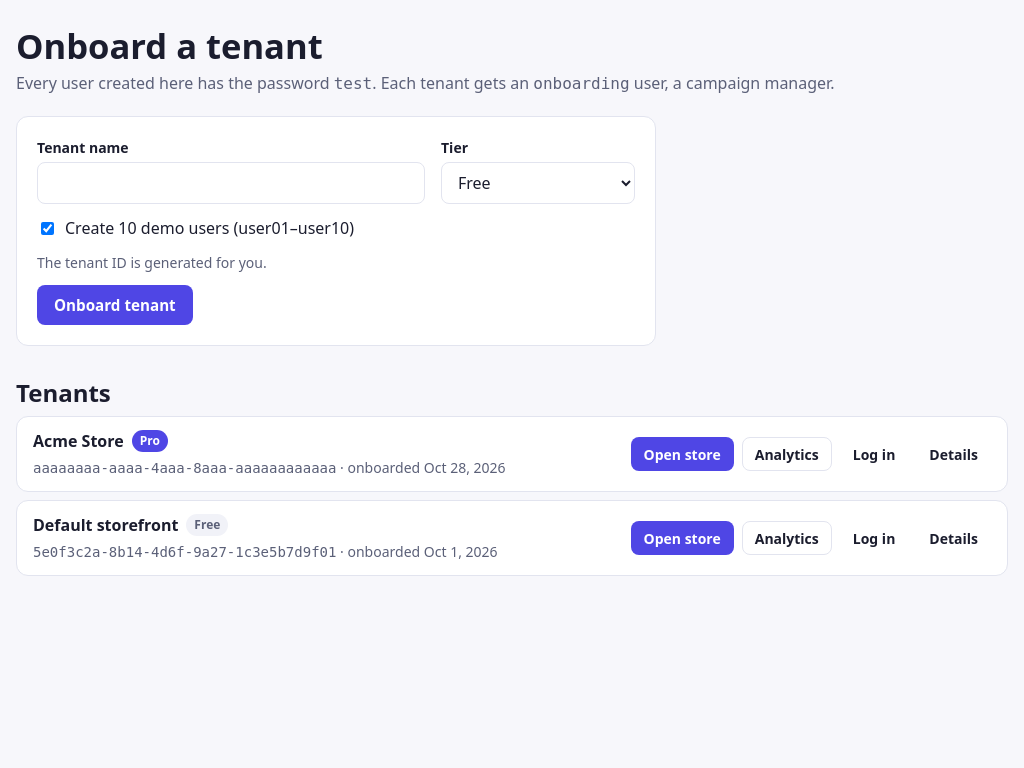
the tenant list › stays on the current store when the tenant has no onboarding user
Click the button with aria-label "Open store: Acme Store" at (682, 454), box x1=630 y1=437 x2=734 y2=471
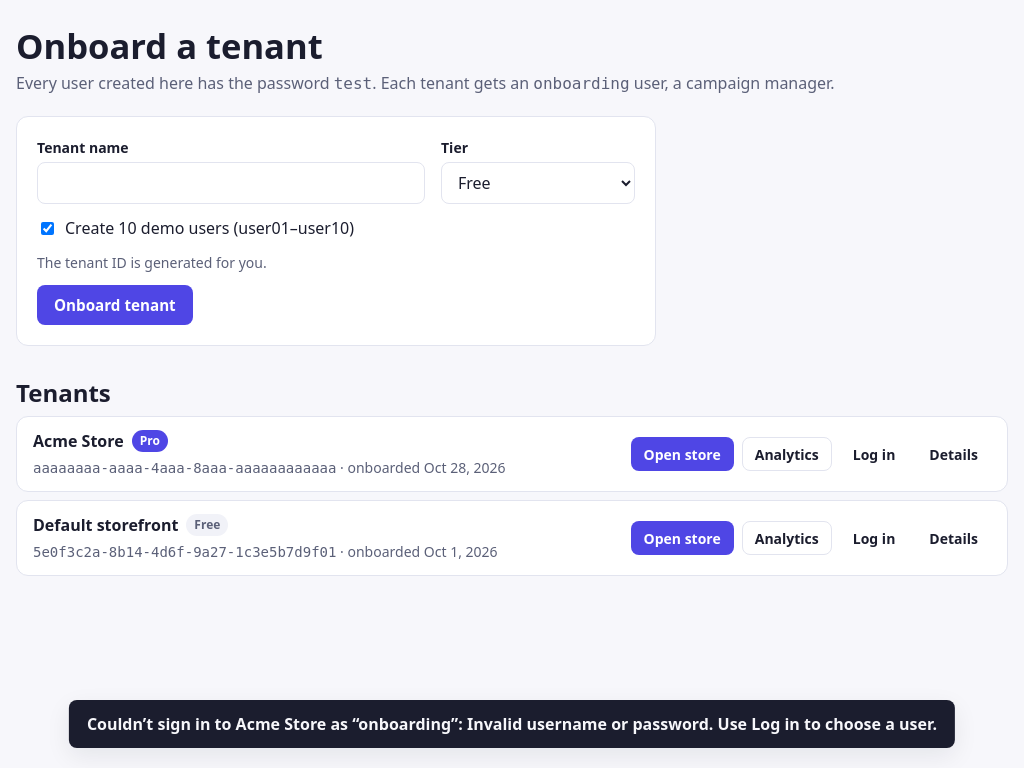
Check: the text "5e0f3c2a-8b14-4d6f-9a27-1c3e5b7d9f01" is shown, box x1=33 y1=544 x2=336 y2=560
Check: the text "Couldn’t sign in to Acme Store as “onboarding”" is shown, box x1=87 y1=713 x2=937 y2=735
